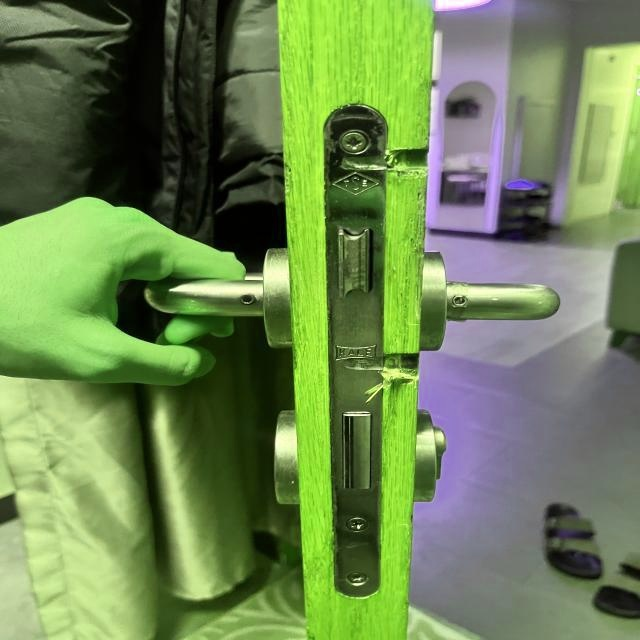phillips: (346, 517, 369, 531)
pozidriv: (340, 132, 368, 153), (347, 573, 367, 583)
